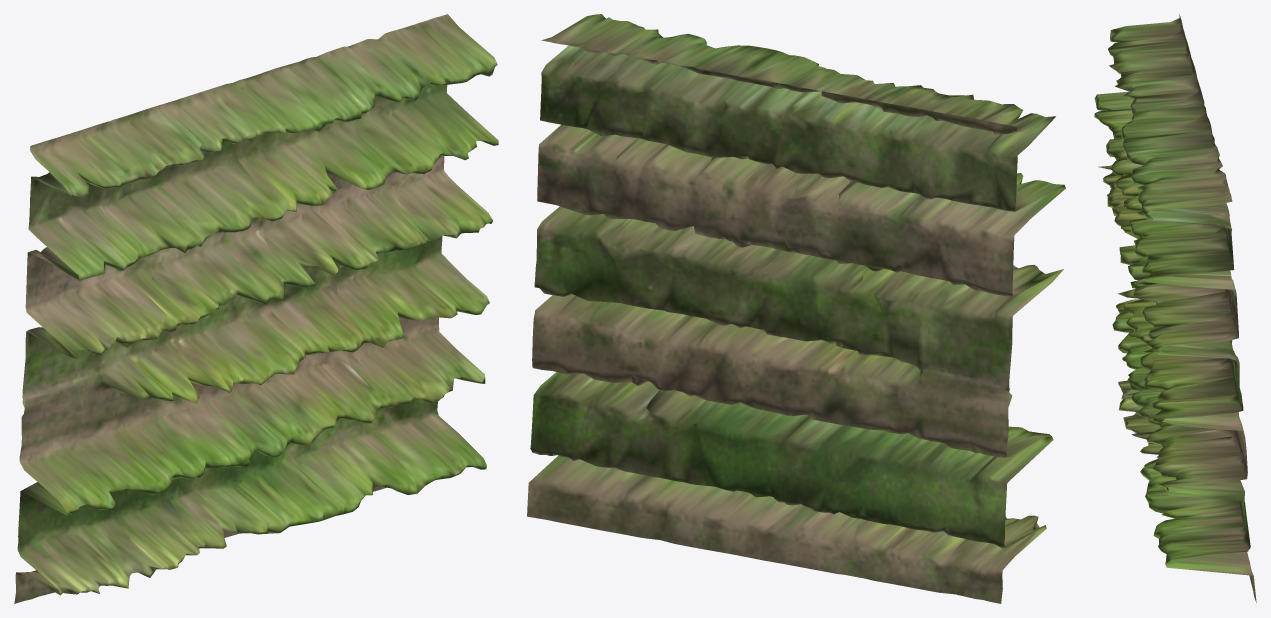
The model's file is map_70_50.obj.
3 renders of one model, left to right at view 1: azimuth 30°, elevation 25°; view 2: azimuth 150°, elevation 25°; view 3: azimuth 270°, elevation 25°, orthographic. The views are drawn at different scales.
Bounding box in the file's own units: 10 × 10 × 3.66.
1 material, 1 textured.
